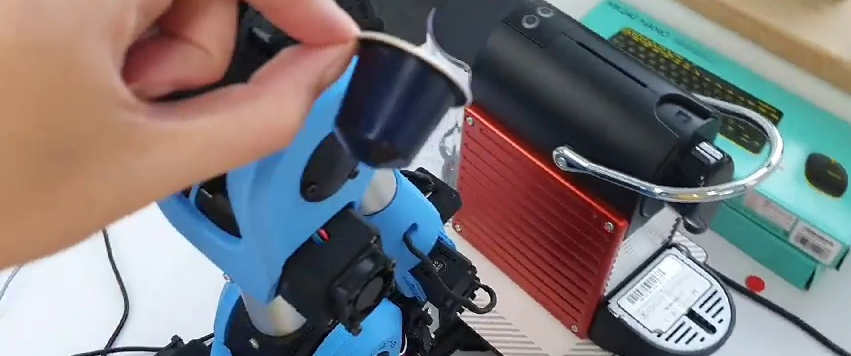capsule_1: (338, 28, 472, 171)
